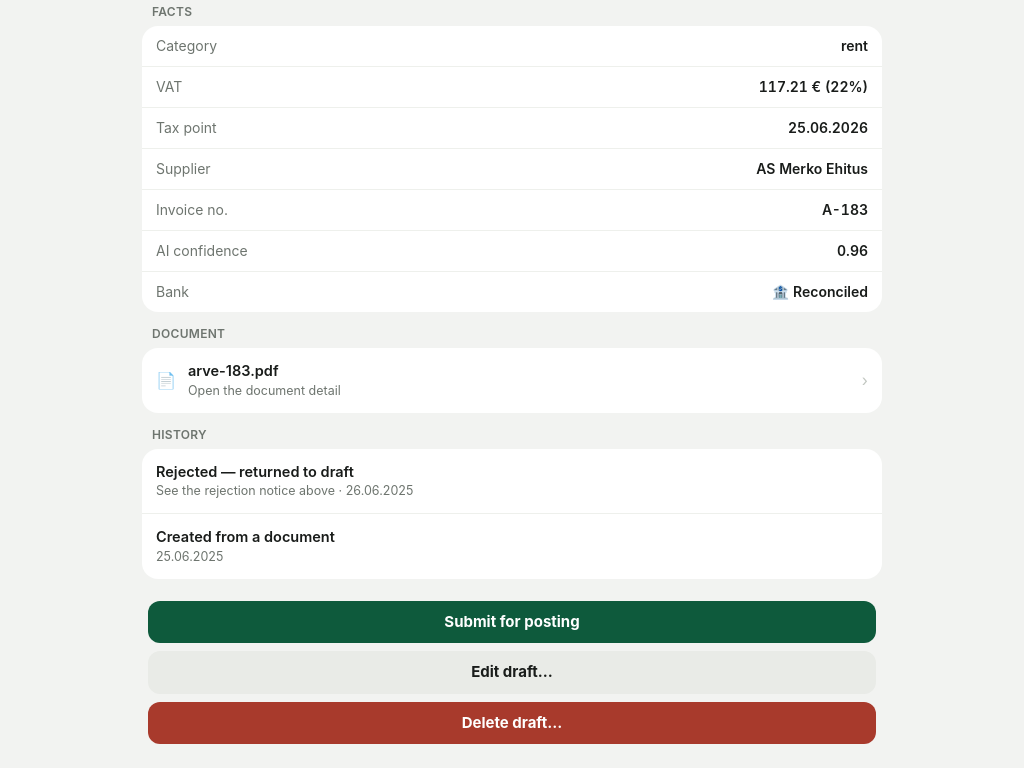
ExpenseScreen › drafts show the rejection reason and Submit for posting with a humanized HELD receipt
(page scrolled)
Click the button "Submit for posting": coordinates (512, 622) [148,600,876,643]
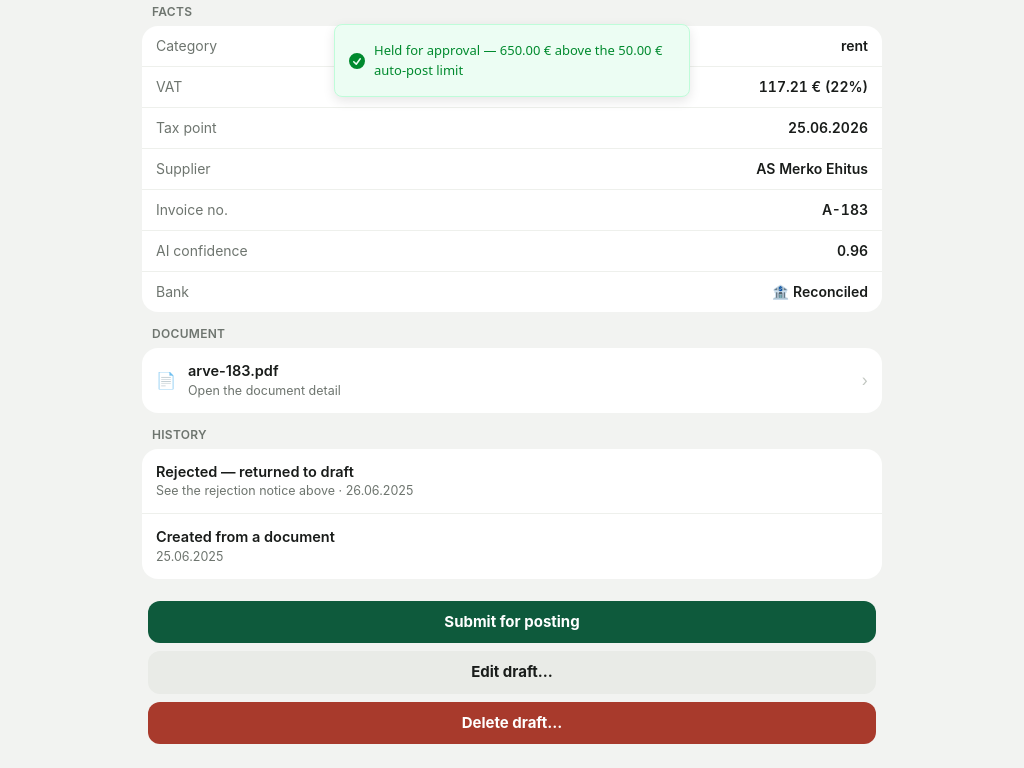
Result: the text "Held for approval — 650.00 € above the 50.00 € auto-post limit" is shown at [374,41,673,80]
